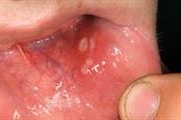Ulcer: (77, 34, 98, 76)
